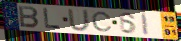6: (118, 12, 139, 35)
B: (18, 5, 41, 29)
C: (91, 11, 114, 32)
I: (140, 12, 150, 37)
L: (42, 7, 62, 30)
U: (67, 9, 92, 32)
